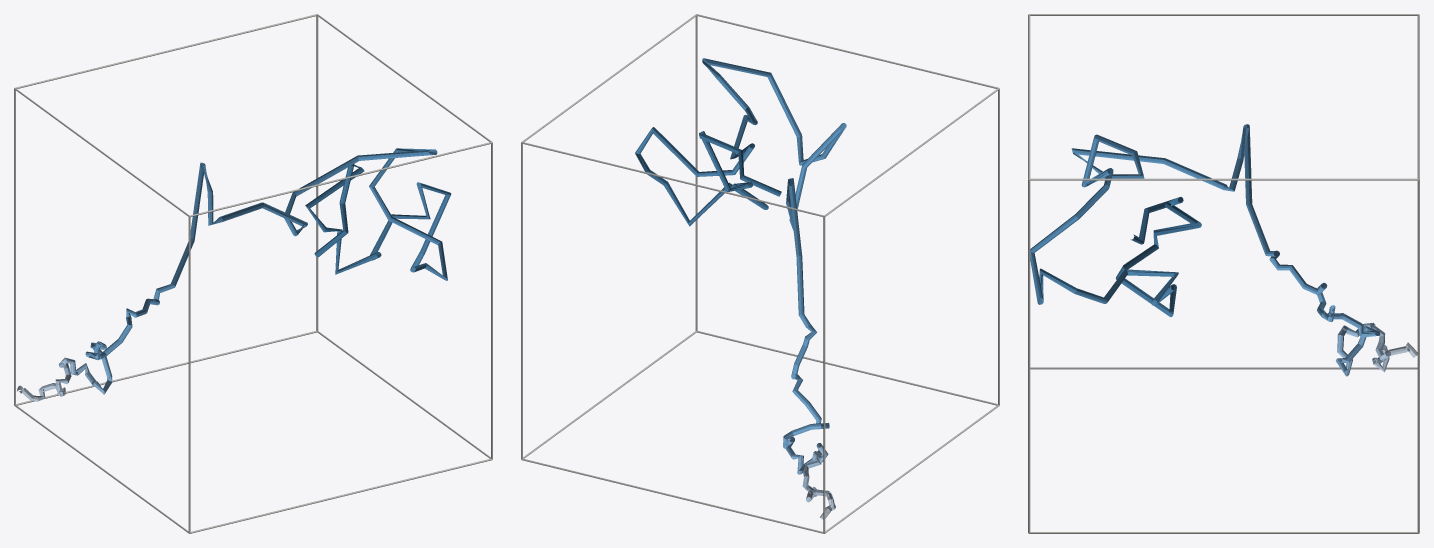
3 views of the same model, side by side, from view 1: azimuth 30°, elevation 25°; view 2: azimuth 150°, elevation 25°; view 3: azimuth 270°, elevation 25° (orthographic). The views are drawn at different scales.
Parts seen in each view (by area): view 1: geometry_0, geometry_1; view 2: geometry_0, geometry_1; view 3: geometry_0, geometry_1.
Boxes of the visible parts, x1=… form: geometry_0: x1=17, y1=148, x2=451, y2=401; geometry_1: x1=14, y1=14, x2=492, y2=533; geometry_0: x1=635, y1=58, x2=846, y2=519; geometry_1: x1=521, y1=14, x2=999, y2=533; geometry_0: x1=1030, y1=124, x2=1417, y2=376; geometry_1: x1=1028, y1=14, x2=1419, y2=533.
Size of the model in its own units: 0.3045 by 0.3014 by 0.3016.
